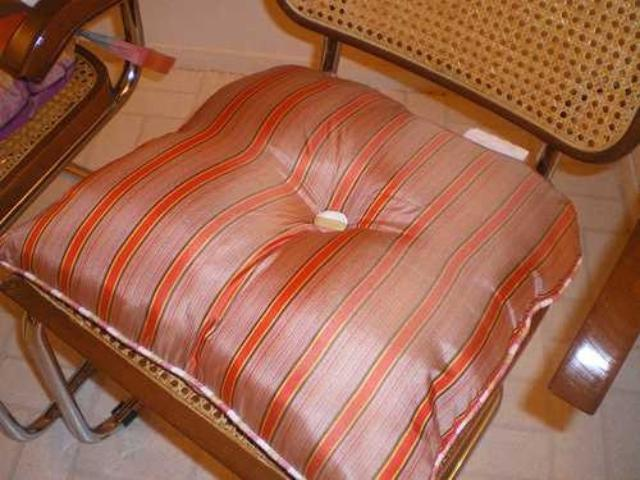pillow: (1, 61, 584, 478)
